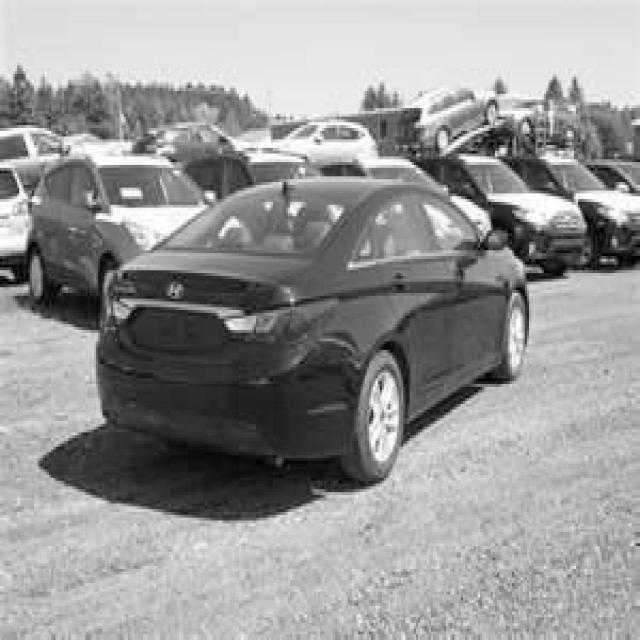car: (94, 174, 529, 484), (30, 155, 217, 316), (411, 155, 587, 279), (500, 154, 640, 269)
